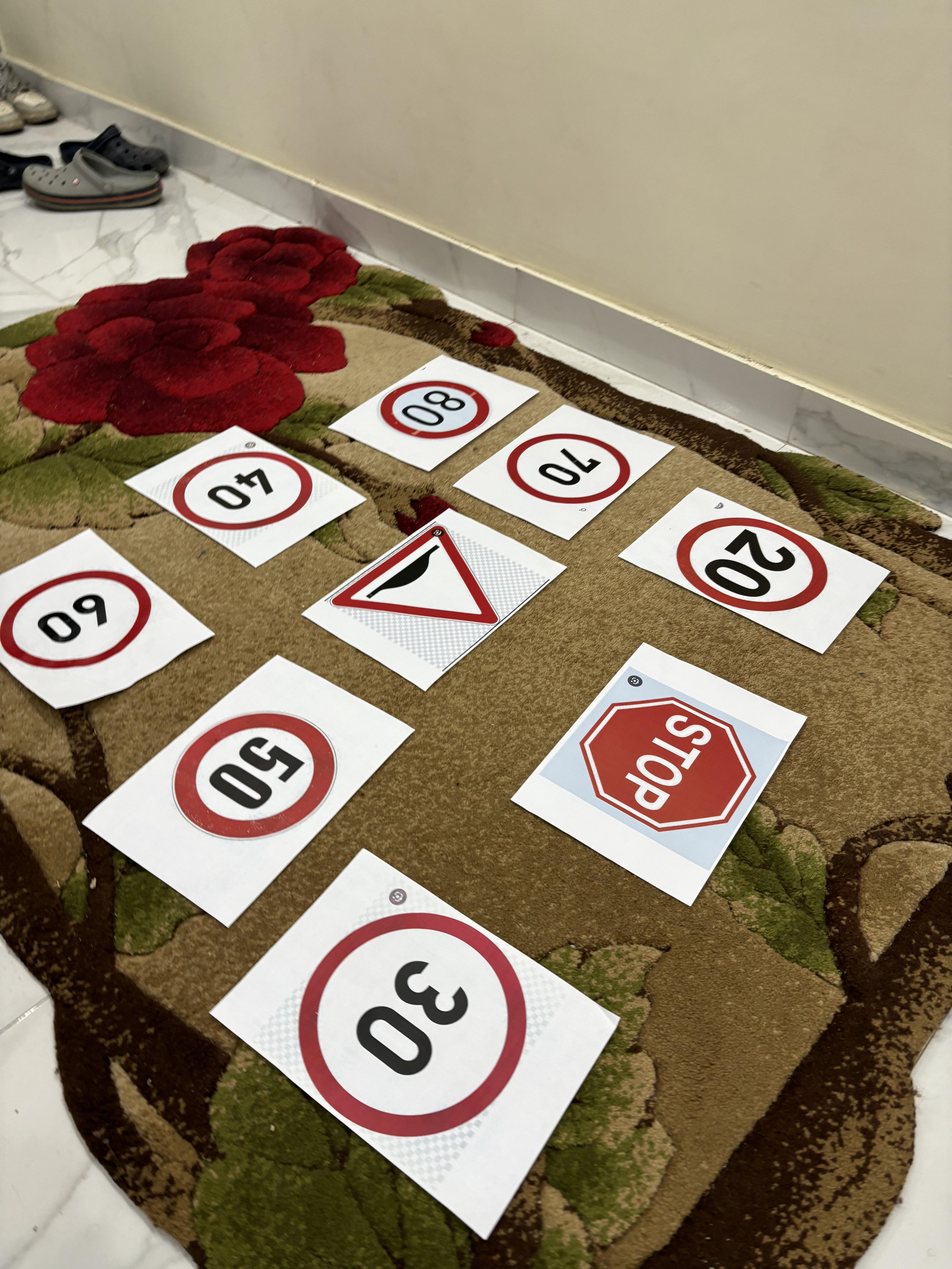20-Speed: (663, 509, 836, 621)
30-speed: (307, 911, 536, 1148)
40-Speed: (178, 445, 314, 534)
50-Speed: (163, 698, 342, 847)
60-Speed: (5, 556, 157, 677)
70-Speed: (503, 416, 632, 509)
80-Speed: (369, 367, 497, 442)
Hump: (327, 523, 511, 645)
Stop: (583, 678, 763, 847)
